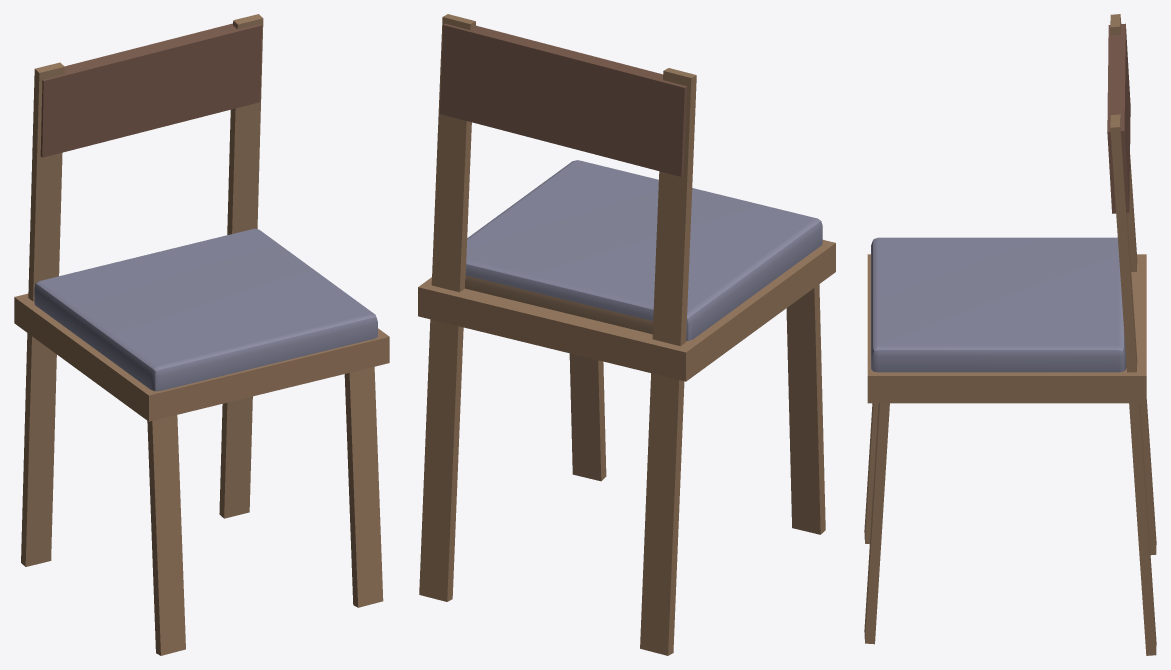
File: colored chair deskroom.fbx
3 views of the same model, side by side, from view 1: azimuth 30°, elevation 25°; view 2: azimuth 150°, elevation 25°; view 3: azimuth 270°, elevation 25° (orthographic). The views are drawn at different scales.
Parts seen in each view (by area): view 1: polySurface5, polySurface4, polySurface8, polySurface2; view 2: polySurface5, polySurface4, polySurface8, polySurface2, polySurface1; view 3: polySurface4, polySurface5, polySurface2, polySurface8.
Part boxes in pixels (left/top/right/bottom): polySurface5: left=21, top=14, right=383, bottom=655; polySurface4: left=34, top=228, right=377, bottom=391; polySurface8: left=40, top=23, right=261, bottom=157; polySurface2: left=14, top=293, right=389, bottom=421; polySurface5: left=419, top=14, right=825, bottom=655; polySurface4: left=465, top=160, right=822, bottom=340; polySurface8: left=439, top=23, right=687, bottom=176; polySurface2: left=418, top=240, right=835, bottom=381; polySurface1: left=465, top=275, right=653, bottom=334; polySurface4: left=871, top=237, right=1125, bottom=372; polySurface5: left=864, top=14, right=1156, bottom=655; polySurface2: left=867, top=254, right=1146, bottom=403; polySurface8: left=1107, top=23, right=1130, bottom=213.
Size of the model in its own units: 0.6038 by 1.22 by 0.6117.
